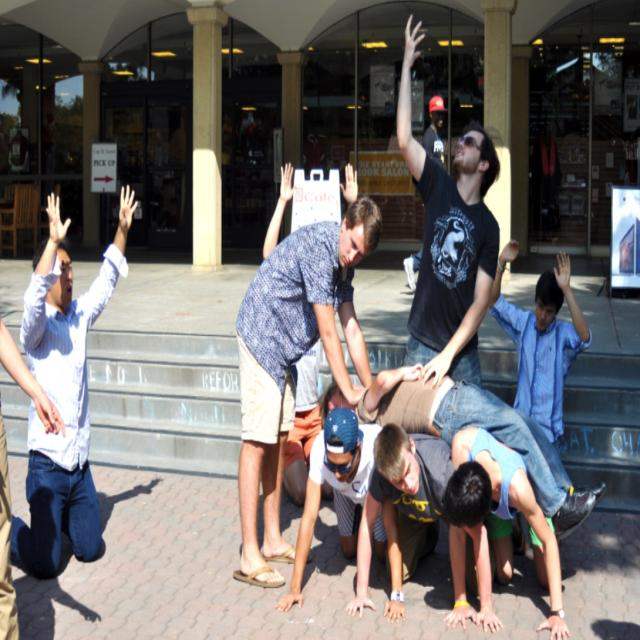body: (229, 192, 388, 590), (0, 181, 139, 580), (315, 357, 608, 545), (396, 12, 502, 388), (345, 417, 508, 636), (262, 160, 359, 506), (487, 238, 594, 532), (273, 404, 408, 623), (440, 426, 572, 639), (402, 93, 449, 293), (0, 387, 21, 638), (532, 127, 562, 237), (8, 119, 30, 214), (588, 610, 639, 640)
